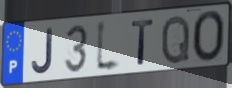3: (62, 22, 90, 74)
J: (30, 27, 54, 77)
L: (94, 18, 123, 76)
O: (191, 9, 227, 64)
Q: (160, 13, 192, 67)
T: (130, 17, 155, 67)
